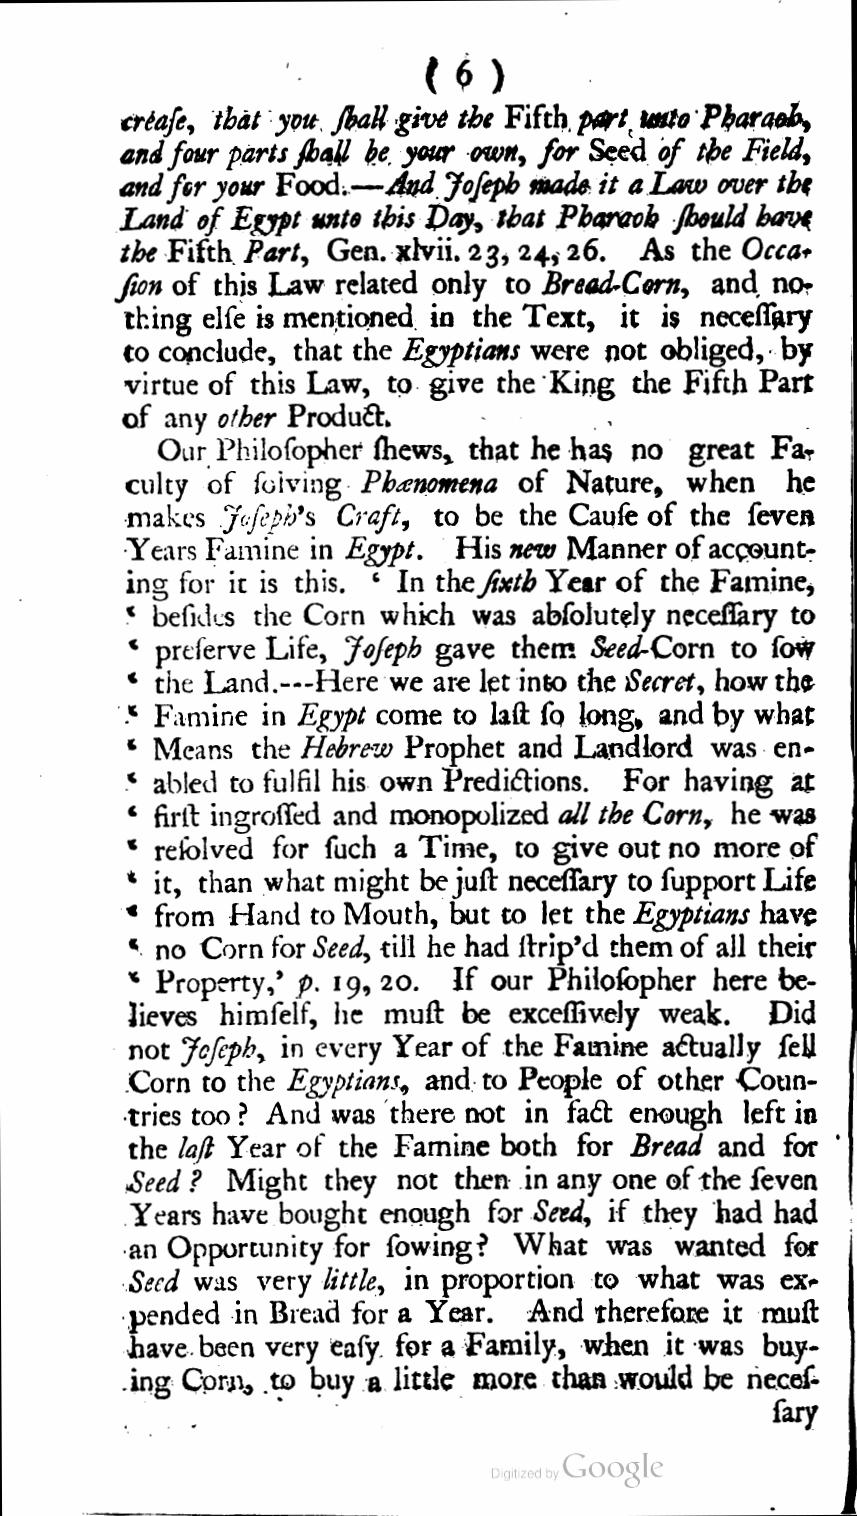bottom_p: (114, 104, 818, 434)
catchword: (774, 1398, 820, 1432)
page_num: (444, 48, 480, 94)
top_p: (122, 434, 826, 1400)
